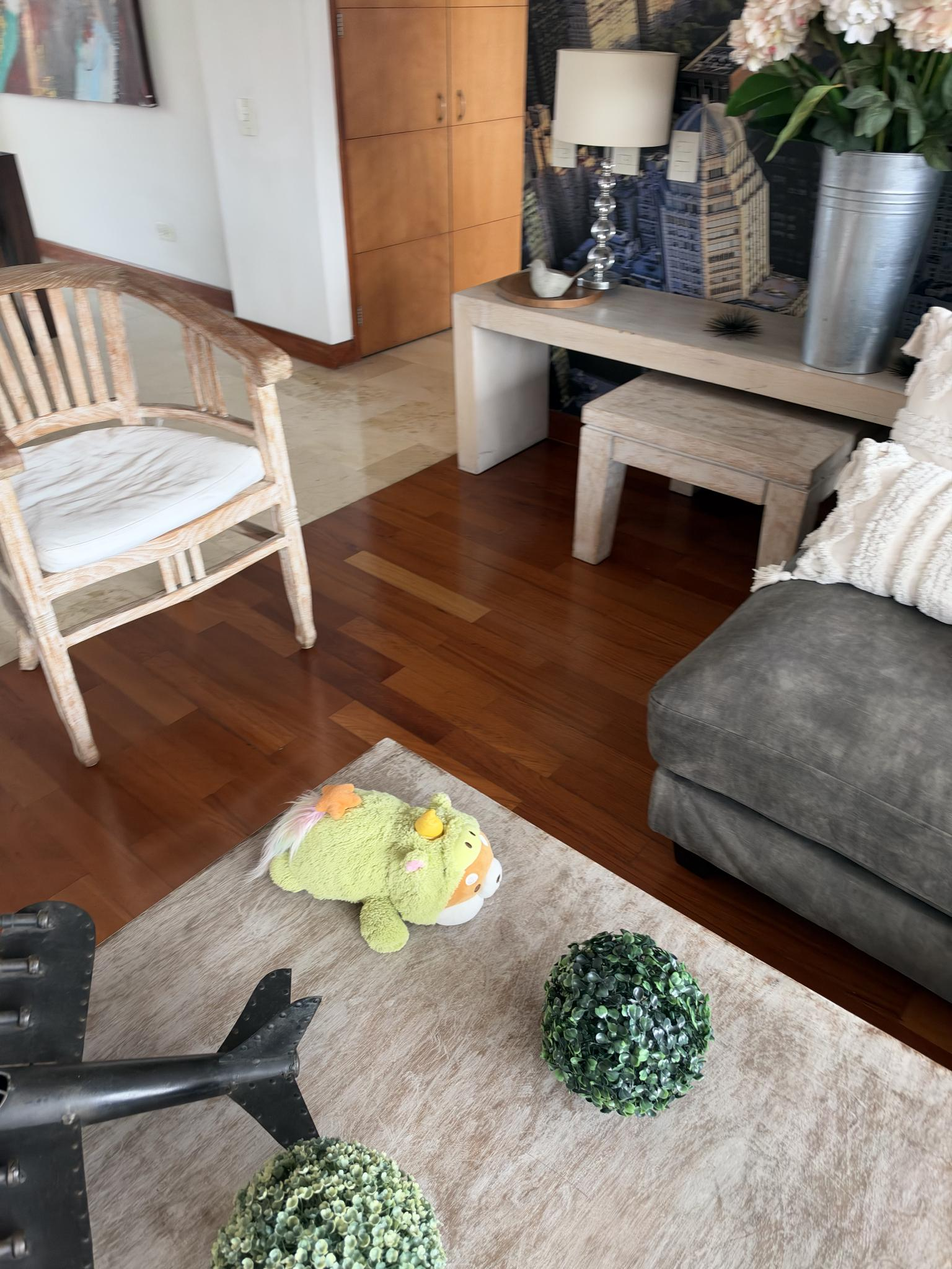peluche_martin: (243, 783, 503, 954)
